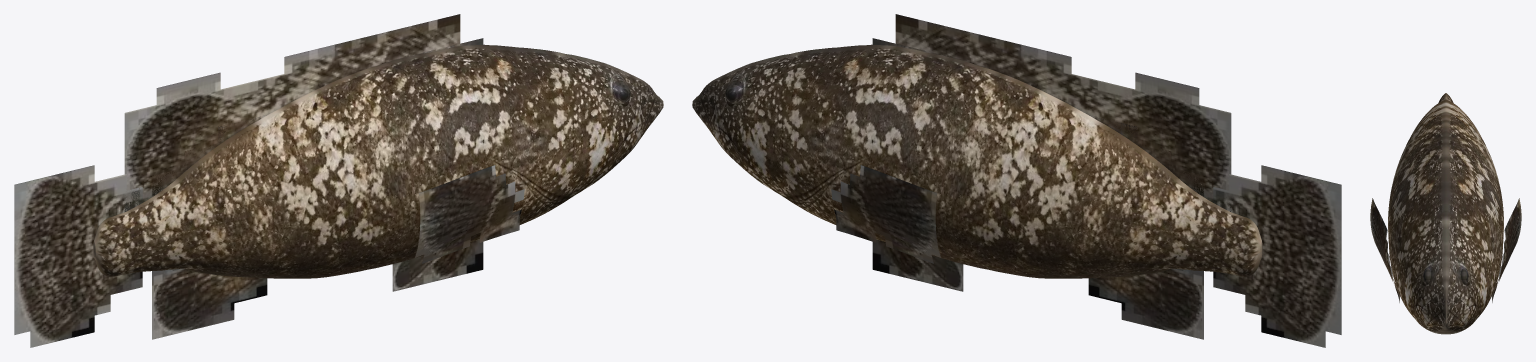
Rendered from real-epinephelus_lanceolatus.glb.
3 renders of one model, left to right at view 1: azimuth 30°, elevation 25°; view 2: azimuth 150°, elevation 25°; view 3: azimuth 270°, elevation 25°, orthographic. The views are drawn at different scales.
Visible parts, largest first — view 1: epinephelus_lanceolatus; view 2: epinephelus_lanceolatus; view 3: epinephelus_lanceolatus.
Part boxes in pixels (left/top/right/bottom): epinephelus_lanceolatus: left=14, top=14, right=663, bottom=347; epinephelus_lanceolatus: left=692, top=14, right=1341, bottom=347; epinephelus_lanceolatus: left=1370, top=93, right=1521, bottom=334.
Size of the model in its own units: 1.9 by 0.7321 by 0.4927.
1 material, 1 textured.
